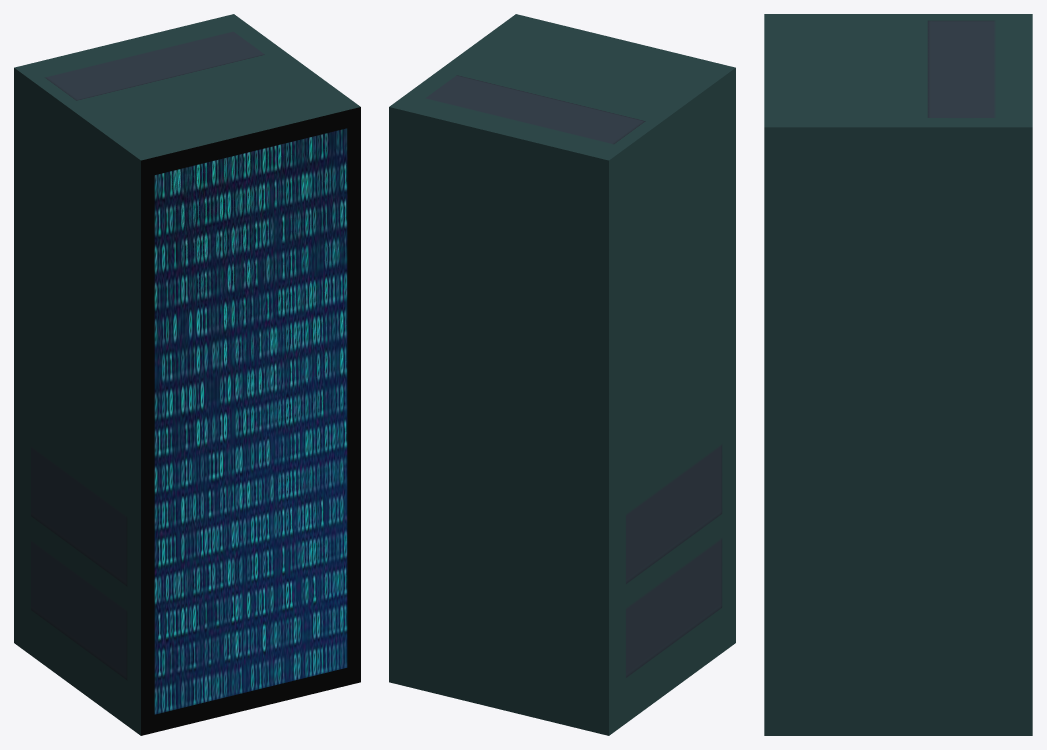
Rendered from Database System 1.fbx.
3 renders of one model, left to right at view 1: azimuth 30°, elevation 25°; view 2: azimuth 150°, elevation 25°; view 3: azimuth 270°, elevation 25°, orthographic. The views are drawn at different scales.
Visible parts, largest first — view 1: pCube1; view 2: pCube1; view 3: pCube1.
Part boxes in pixels (x1,y1,x2,y2): pCube1: (14, 14, 360, 735); pCube1: (389, 14, 735, 735); pCube1: (764, 14, 1032, 735).
Bounding box in the file's own units: 8 × 20 × 8.
1 material, 1 textured.
